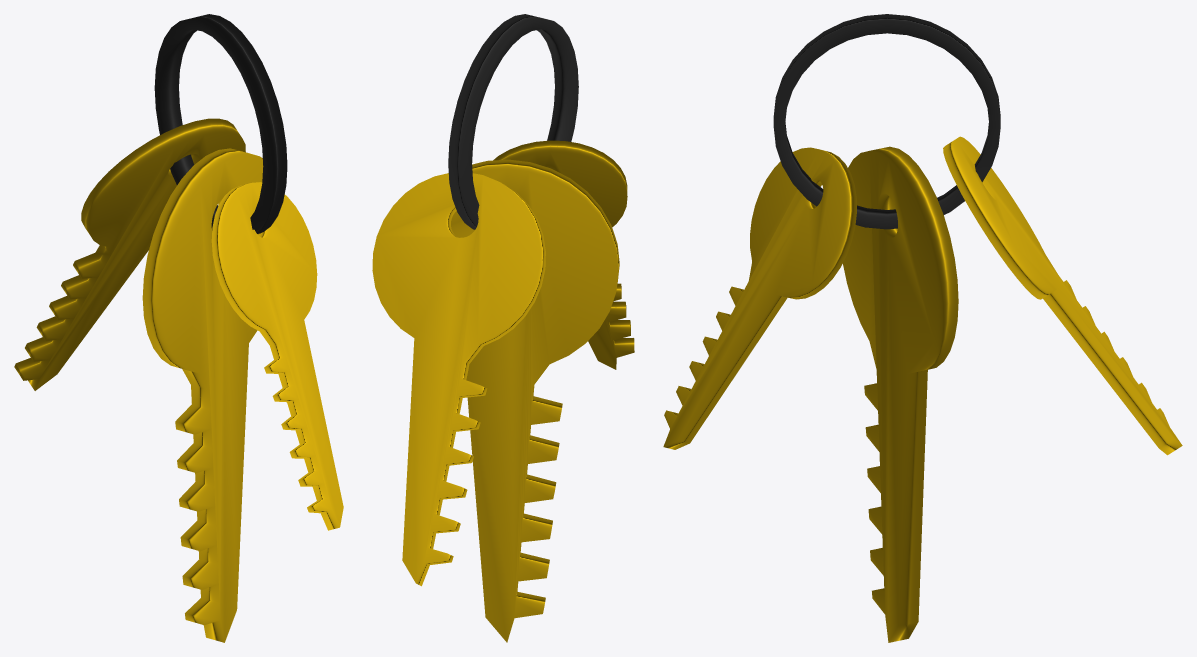
Rendered from keys.fbx.
3 renders of one model, left to right at view 1: azimuth 30°, elevation 25°; view 2: azimuth 150°, elevation 25°; view 3: azimuth 270°, elevation 25°, orthographic.
Parts seen in each view (by area): view 1: Cylinder.001, Cylinder.002, Cylinder.003, Cylinder; view 2: Cylinder.003, Cylinder.001, Cylinder, Cylinder.002; view 3: Cylinder.001, Cylinder.002, Cylinder.003, Cylinder.
Part boxes in pixels (left/top/right/bottom): Cylinder.001: left=142, top=148, right=263, bottom=642; Cylinder.002: left=211, top=182, right=343, bottom=530; Cylinder.003: left=14, top=118, right=245, bottom=390; Cylinder: left=154, top=14, right=287, bottom=233; Cylinder.003: left=372, top=173, right=545, bottom=586; Cylinder.001: left=451, top=159, right=619, bottom=642; Cylinder: left=448, top=14, right=578, bottom=229; Cylinder.002: left=493, top=140, right=634, bottom=369; Cylinder.001: left=843, top=146, right=958, bottom=642; Cylinder.002: left=663, top=147, right=856, bottom=449; Cylinder.003: left=943, top=136, right=1182, bottom=455; Cylinder: left=773, top=14, right=1000, bottom=229.
Size of the model in its own units: 189 by 604 by 457.
